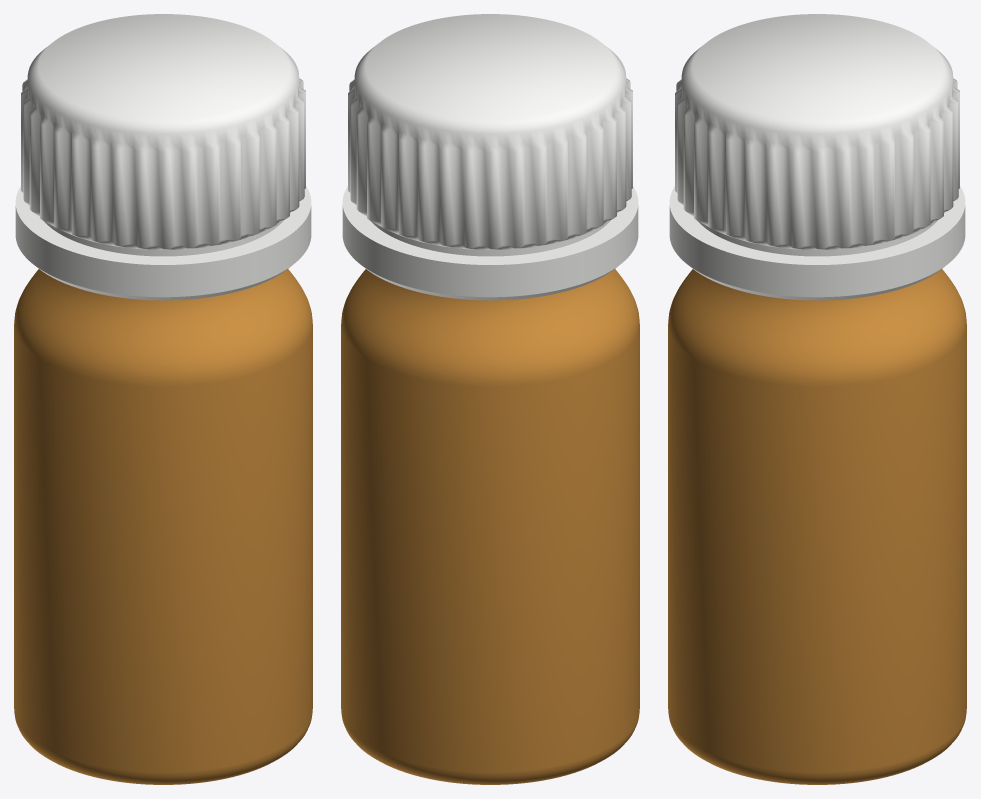
Rendered from amber_bottle_010ml.glb.
3 views of the same model, side by side, from view 1: azimuth 30°, elevation 25°; view 2: azimuth 150°, elevation 25°; view 3: azimuth 270°, elevation 25° (orthographic).
Visible parts, largest first — view 1: Bottle_010ml, Cap_010ml_PP18; view 2: Bottle_010ml, Cap_010ml_PP18; view 3: Bottle_010ml, Cap_010ml_PP18.
Boxes of the visible parts, bbox=[...] form: Bottle_010ml: bbox=[14, 269, 312, 784]; Cap_010ml_PP18: bbox=[15, 14, 311, 300]; Bottle_010ml: bbox=[341, 269, 639, 784]; Cap_010ml_PP18: bbox=[342, 14, 638, 300]; Bottle_010ml: bbox=[668, 269, 966, 784]; Cap_010ml_PP18: bbox=[669, 14, 965, 300].
Size of the model in its own units: 0.022 by 0.0539 by 0.022.
